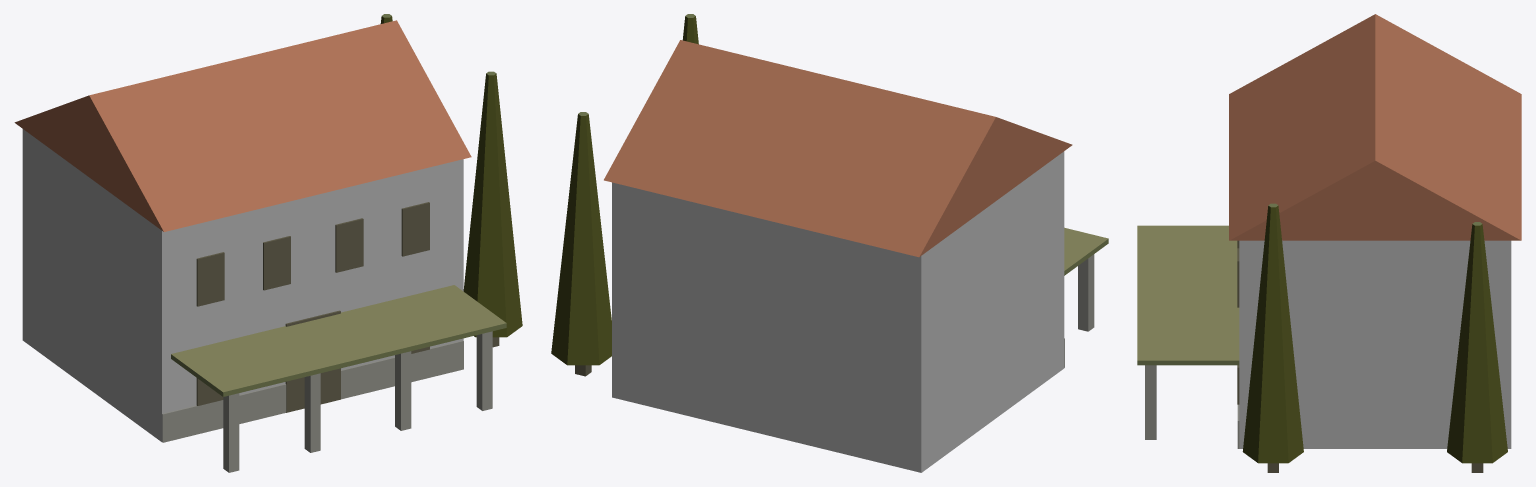
The model's file is SM_CasaLabor_v2_Porche_LOD1.fbx.
The picture shows the model from 3 angles, left to right: view 1: azimuth 30°, elevation 25°; view 2: azimuth 150°, elevation 25°; view 3: azimuth 270°, elevation 25°; orthographic projection. The views are drawn at different scales.
Parts seen in each view (by area): view 1: SM_bloques.viveres_nules_v12_LOD1; view 2: SM_bloques.viveres_nules_v12_LOD1; view 3: SM_bloques.viveres_nules_v12_LOD1.
Part boxes in pixels (<box>): SM_bloques.viveres_nules_v12_LOD1: <box>14,14,522,472</box>; SM_bloques.viveres_nules_v12_LOD1: <box>551,14,1108,472</box>; SM_bloques.viveres_nules_v12_LOD1: <box>1137,14,1521,472</box>.
Bounding box in the file's own units: 12.38 × 9.4 × 11.3.
